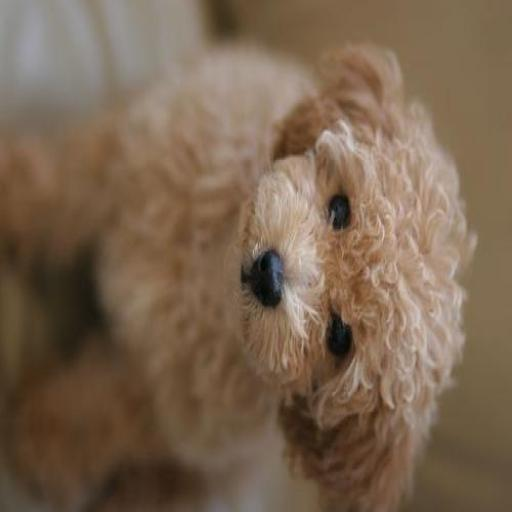dog_face: (255, 40, 457, 506)
